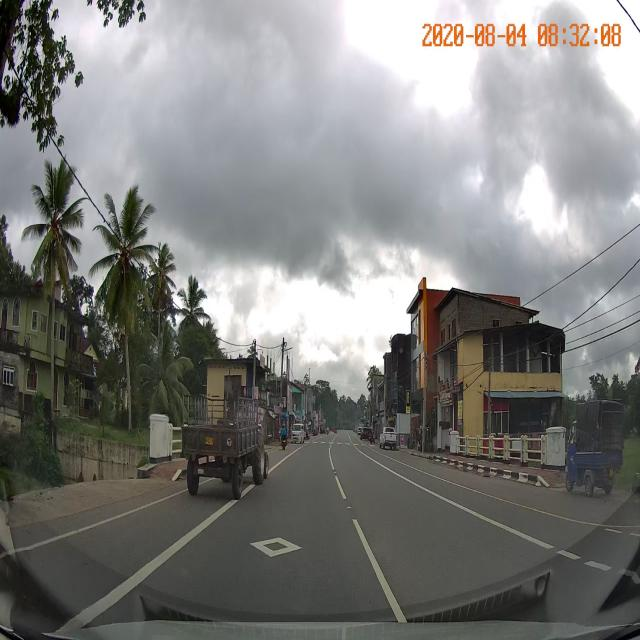diamond: (167, 518, 394, 592)
